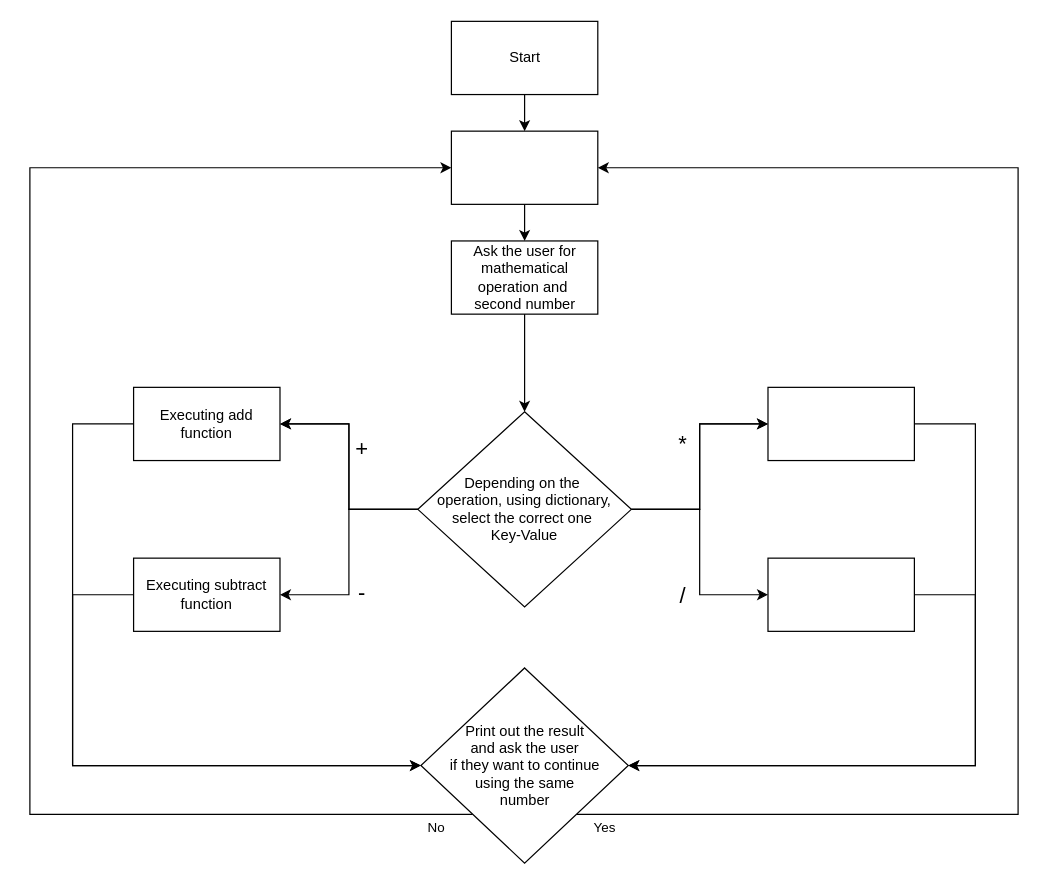
Some shapes in this 1049 by 885 pixel diagram are drawn without their labels. The box of each missing label's shape, as (x1, y1, x2, y2) in pixels:
Ask the user for the first number: (450, 130, 598, 204)
Executing divide function: (767, 557, 914, 631)
Executing multiply function: (767, 386, 914, 461)
